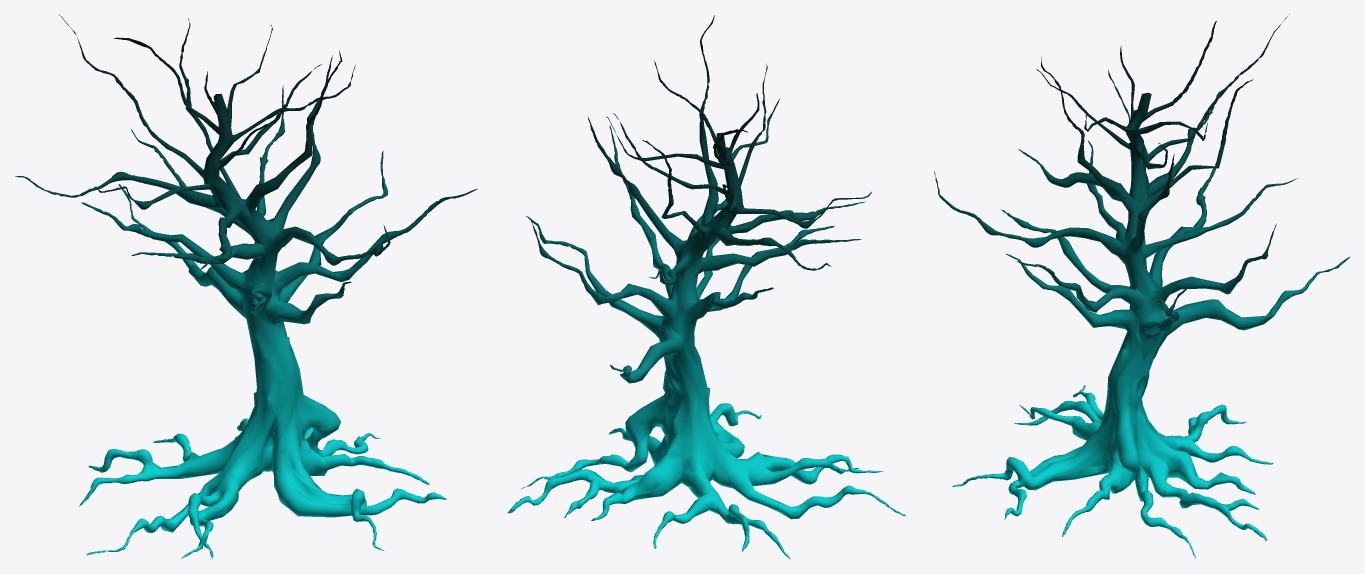
File: OakTreeDead01.fbx
3 views of the same model, side by side, from view 1: azimuth 30°, elevation 25°; view 2: azimuth 150°, elevation 25°; view 3: azimuth 270°, elevation 25° (orthographic). The views are drawn at different scales.
Parts seen in each view (by area): view 1: OakTreeDead01_LOD0; view 2: OakTreeDead01_LOD0; view 3: OakTreeDead01_LOD0.
Boxes of the visible parts, left/top/right/bottom form: OakTreeDead01_LOD0: left=15, top=14, right=477, bottom=559; OakTreeDead01_LOD0: left=507, top=15, right=905, bottom=559; OakTreeDead01_LOD0: left=934, top=14, right=1350, bottom=558.
Bounding box in the file's own units: 735 × 951 × 802.
